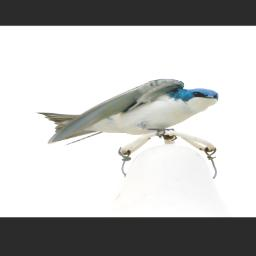Swallow: (34, 78, 219, 148)
